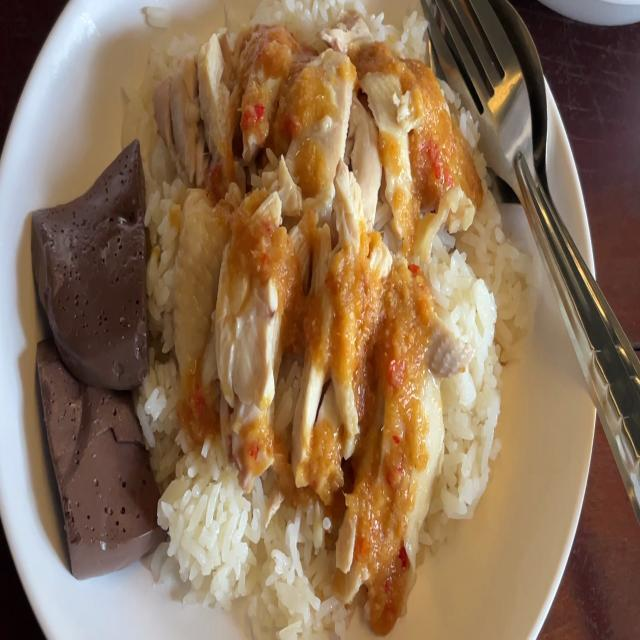chicken_rice: (170, 50, 443, 480)
noodle: (28, 140, 148, 393), (32, 341, 162, 551)
